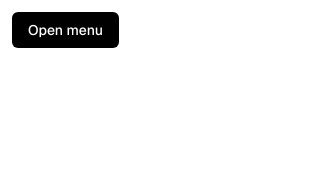
Test case: DropdownMenu › opens and shows an item
Step 1. Click the button "Open menu" → (65, 30), box 12,12 -> 119,48
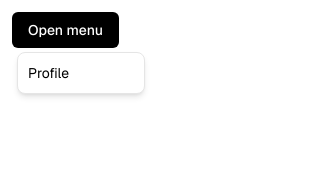
Result: the menu item "Profile" is shown at 28,64 -> 69,82
